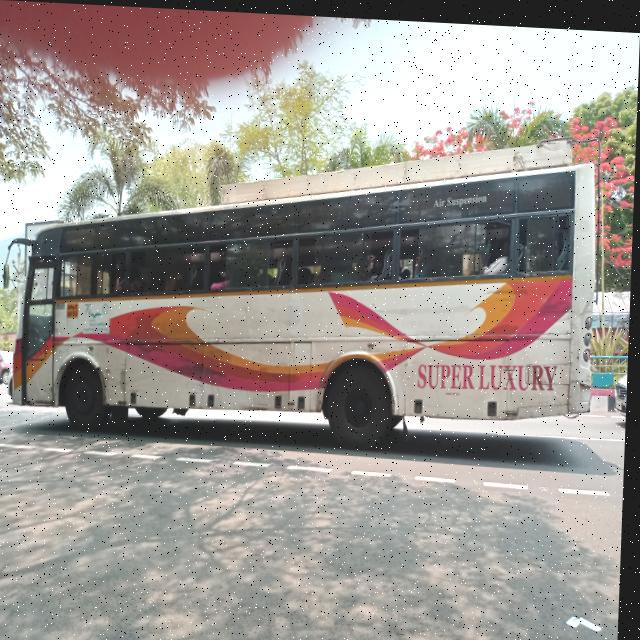bus: (0, 103, 607, 469)
